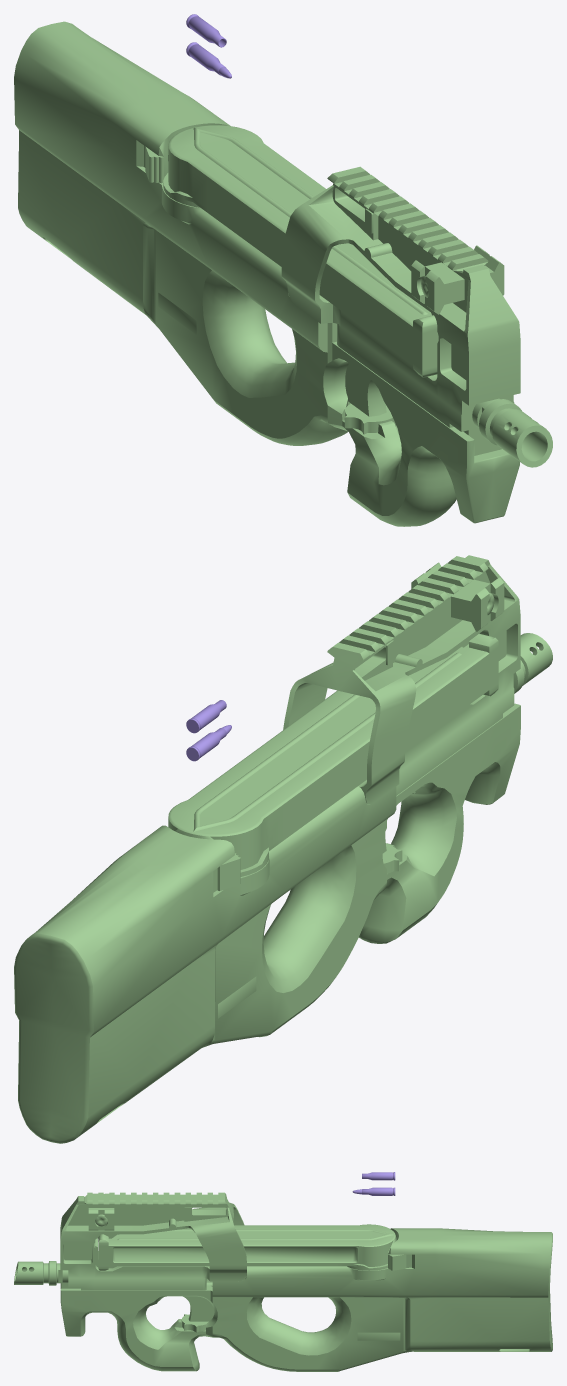
The model's file is WPN_R90.FBX.
3 renders of one model, top to bottom at view 1: azimuth 30°, elevation 25°; view 2: azimuth 150°, elevation 25°; view 3: azimuth 270°, elevation 25°, orthographic. The views are drawn at different scales.
Parts seen in each view (by area): view 1: WPN_R90, WPN_R90_magazine, WPN_R90_trigger, cal_5_7x28, cal_5_7x28_shell; view 2: WPN_R90, WPN_R90_magazine; view 3: WPN_R90, WPN_R90_magazine, WPN_R90_trigger, cal_5_7x28, cal_5_7x28_shell.
Part boxes in pixels (<box>): WPN_R90: <box>14,21,552,526</box>; WPN_R90_magazine: <box>163,125,438,377</box>; WPN_R90_trigger: <box>345,363,386,416</box>; cal_5_7x28: <box>186,42,231,78</box>; cal_5_7x28_shell: <box>186,14,226,47</box>; WPN_R90: <box>14,555,552,1143</box>; WPN_R90_magazine: <box>168,633,498,876</box>; WPN_R90: <box>14,1192,552,1371</box>; WPN_R90_magazine: <box>98,1224,396,1270</box>; WPN_R90_trigger: <box>159,1287,214,1321</box>; cal_5_7x28: <box>352,1187,395,1195</box>; cal_5_7x28_shell: <box>362,1172,395,1180</box>.
Bounding box in the file's own units: 5.6 × 20.5 × 51.02.
